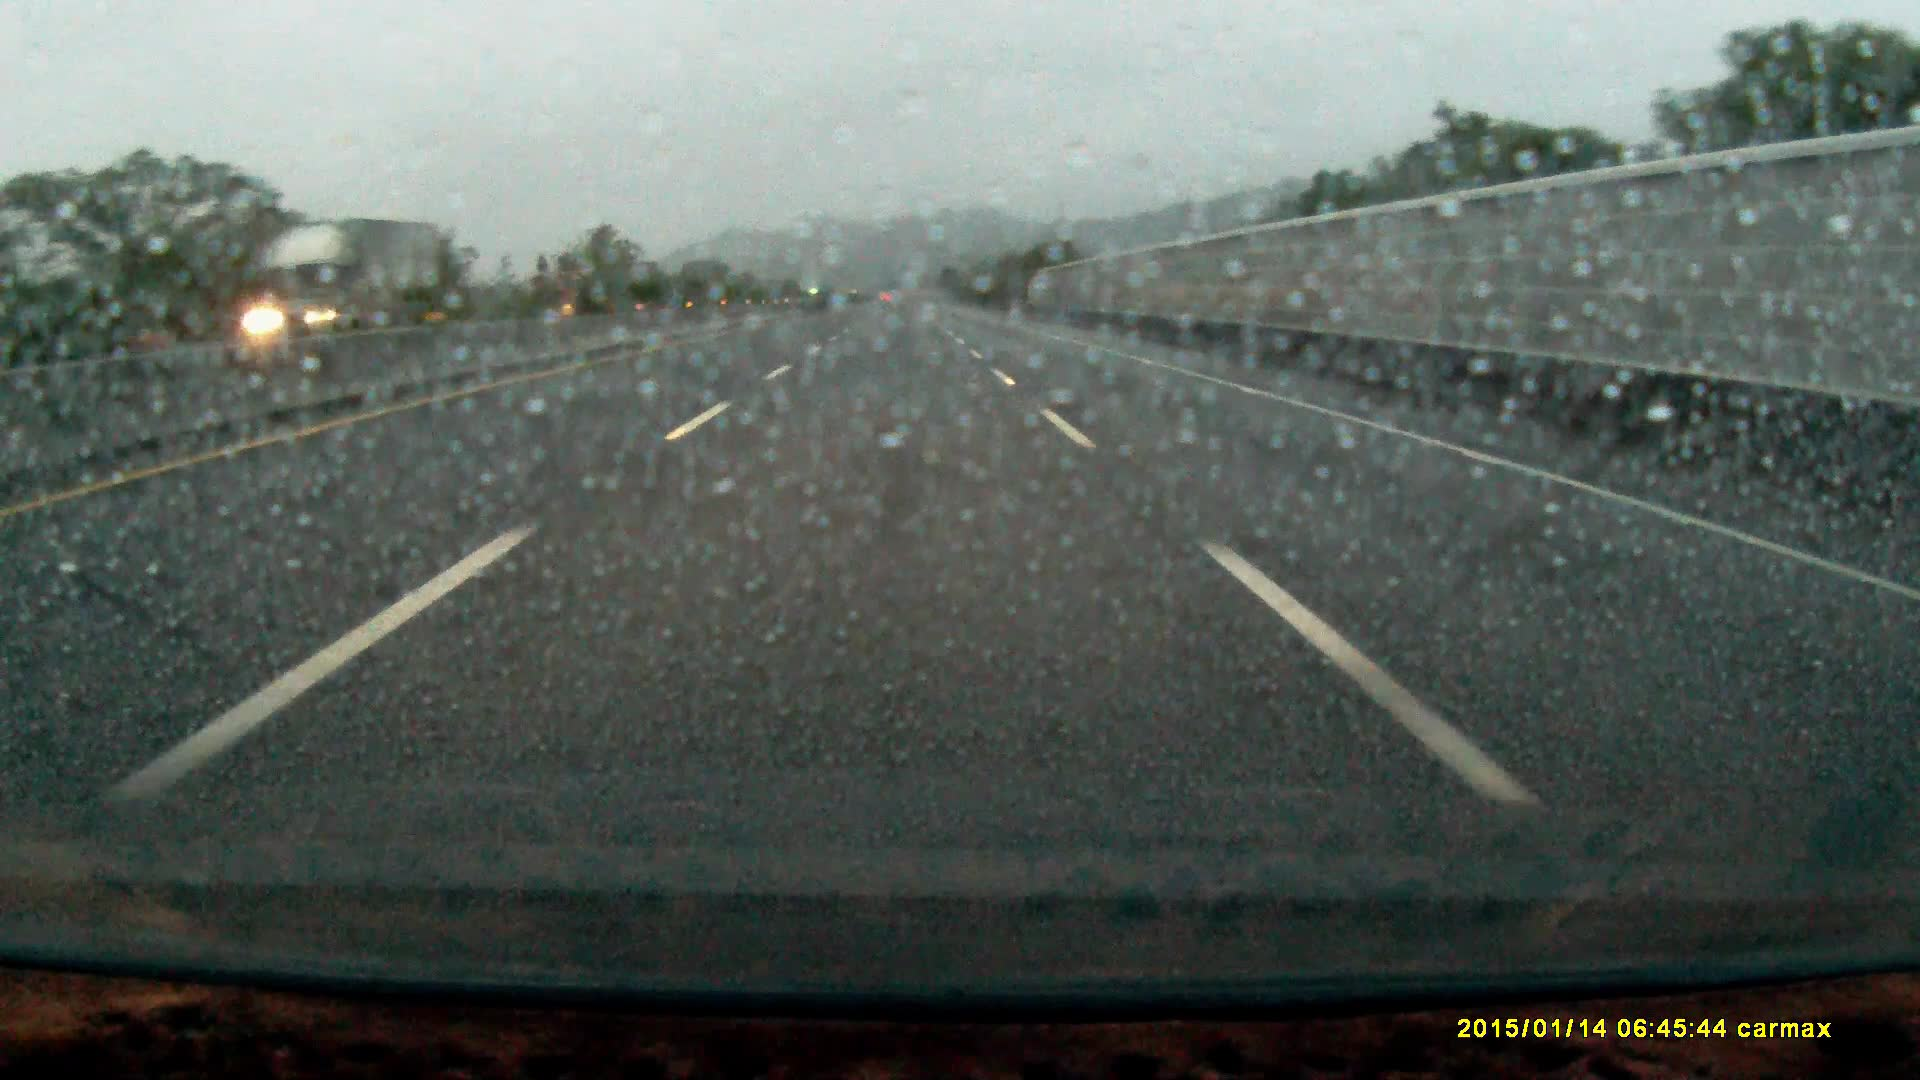vehicle: (231, 225, 436, 338)
